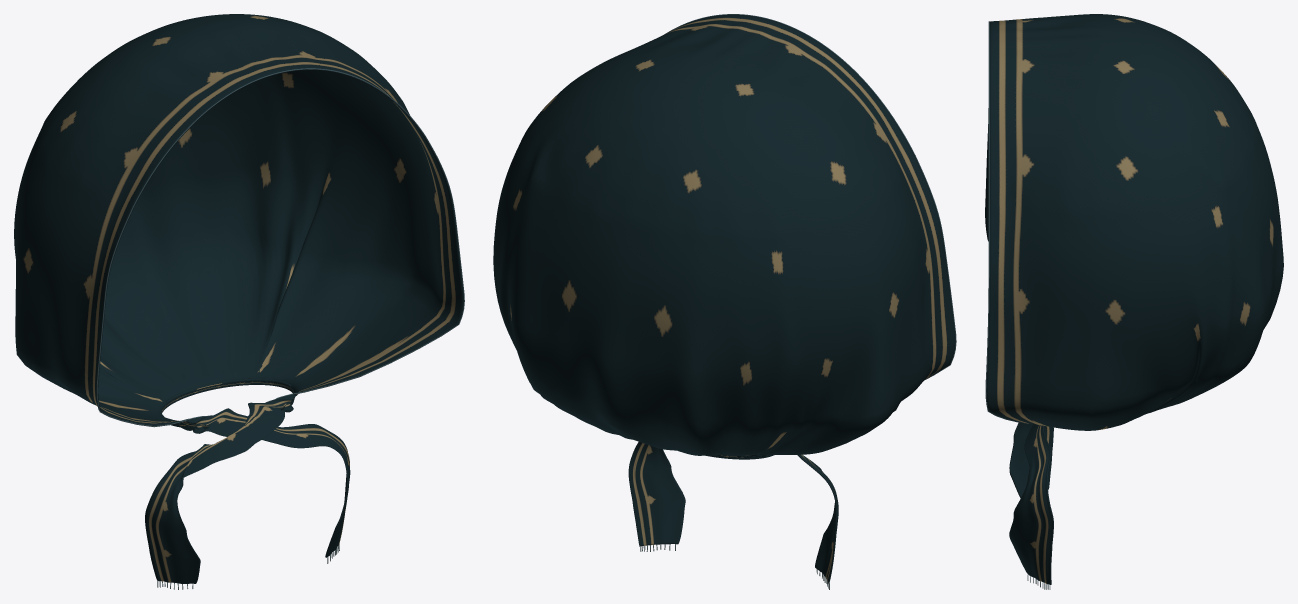
The model's file is Feminine-bandeau-pashmina245-headgear.glb.
3 renders of one model, left to right at view 1: azimuth 30°, elevation 25°; view 2: azimuth 150°, elevation 25°; view 3: azimuth 270°, elevation 25°, orthographic. The views are drawn at different scales.
Parts seen in each view (by area): view 1: 226 headgear / Headwear / continuous woven pashmina239, 226 headgear / Headwear / face edge239; view 2: 226 headgear / Headwear / continuous woven pashmina239, 226 headgear / Headwear / face edge239; view 3: 226 headgear / Headwear / continuous woven pashmina239, 226 headgear / Headwear / face edge239.
Boxes of the visible parts, <box> form: 226 headgear / Headwear / continuous woven pashmina239: <box>14,14,463,583</box>; 226 headgear / Headwear / face edge239: <box>96,68,464,427</box>; 226 headgear / Headwear / continuous woven pashmina239: <box>493,14,955,583</box>; 226 headgear / Headwear / face edge239: <box>664,14,956,379</box>; 226 headgear / Headwear / continuous woven pashmina239: <box>985,14,1283,584</box>; 226 headgear / Headwear / face edge239: <box>985,21,1027,423</box>.
Size of the model in its own units: 1.02 by 1.35 by 0.7116.
3 materials, 1 textured.
